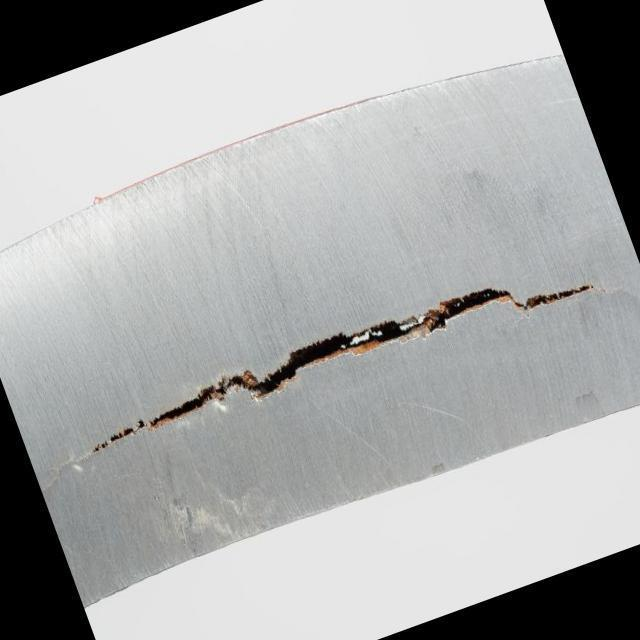defect: (89, 278, 603, 461)
